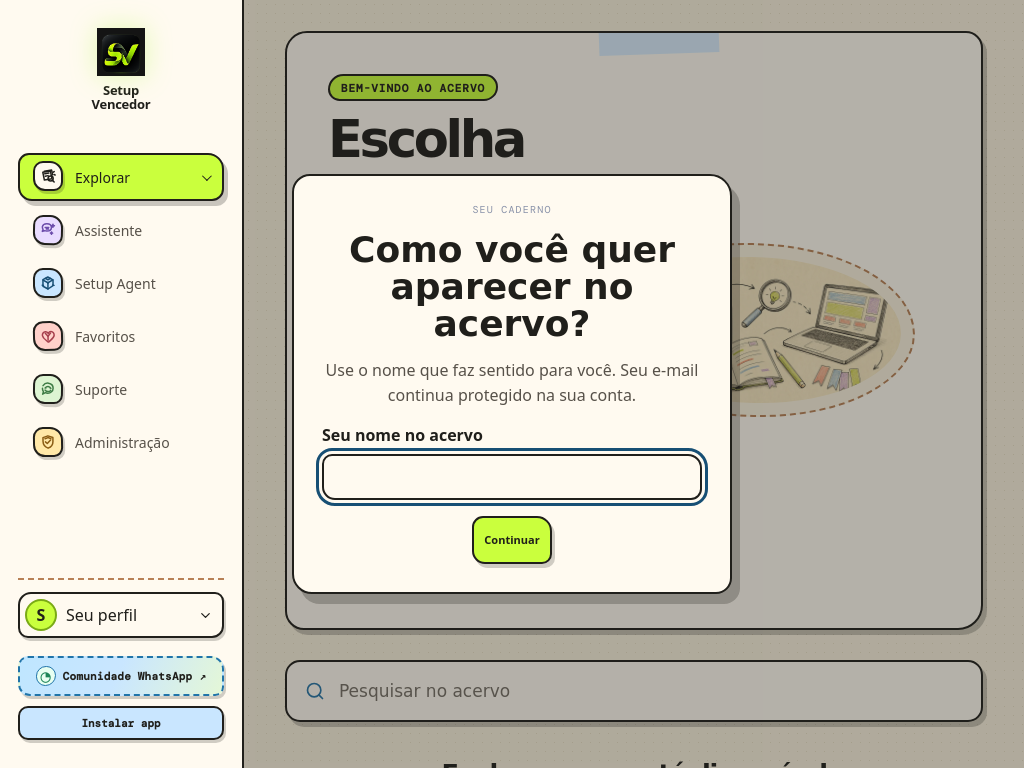
Test: gives every signed-in workspace area its own handdrawn illustration
Expected: the picture named "Biblioteca desenhada" is shown, [608, 256, 902, 405]
Click the button "Assistente" at (121, 230), box [18, 206, 224, 254]
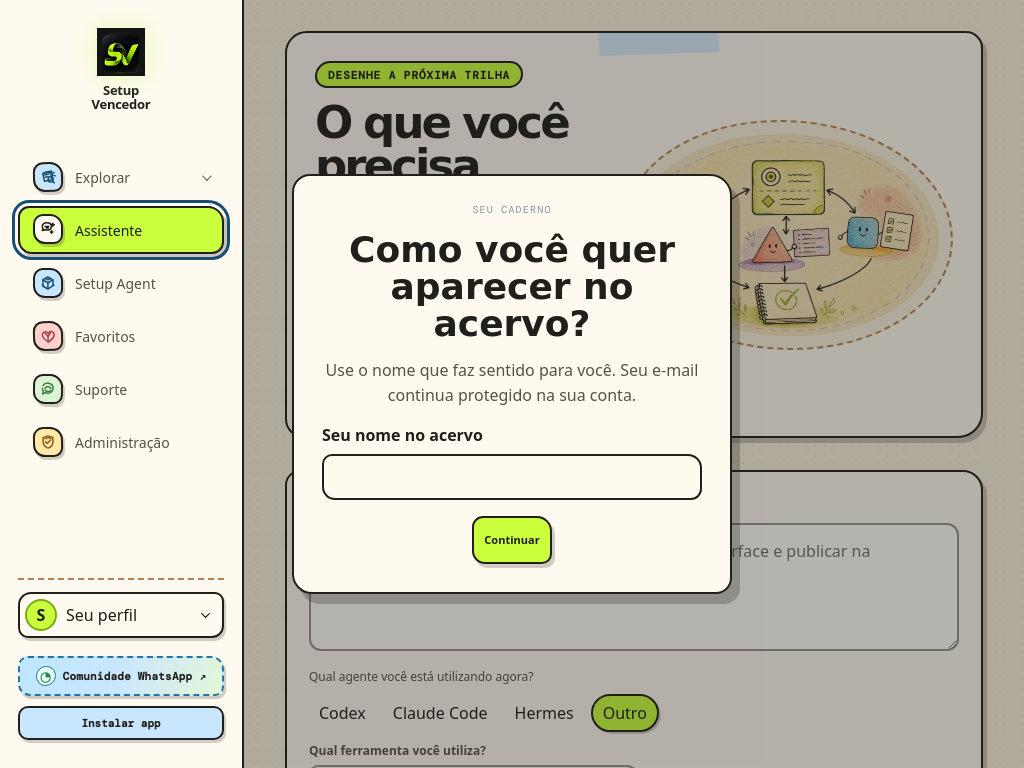
Result: the picture named "Agentes e tarefas ligados" is shown at [635, 132, 940, 338]
Click the button "Favoritos" at (121, 336), box [18, 312, 224, 360]
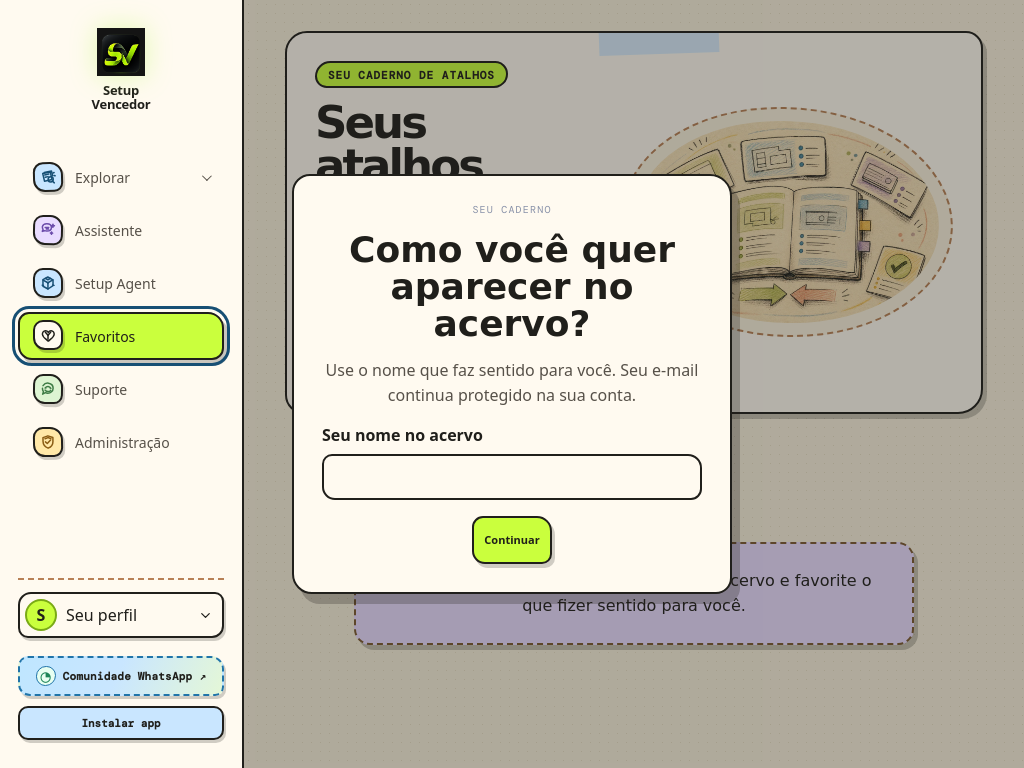
Result: the picture named "Caderno desenhado" is shown at [635, 119, 940, 325]
Click the button "Suporte" at (121, 389), box [18, 365, 224, 413]
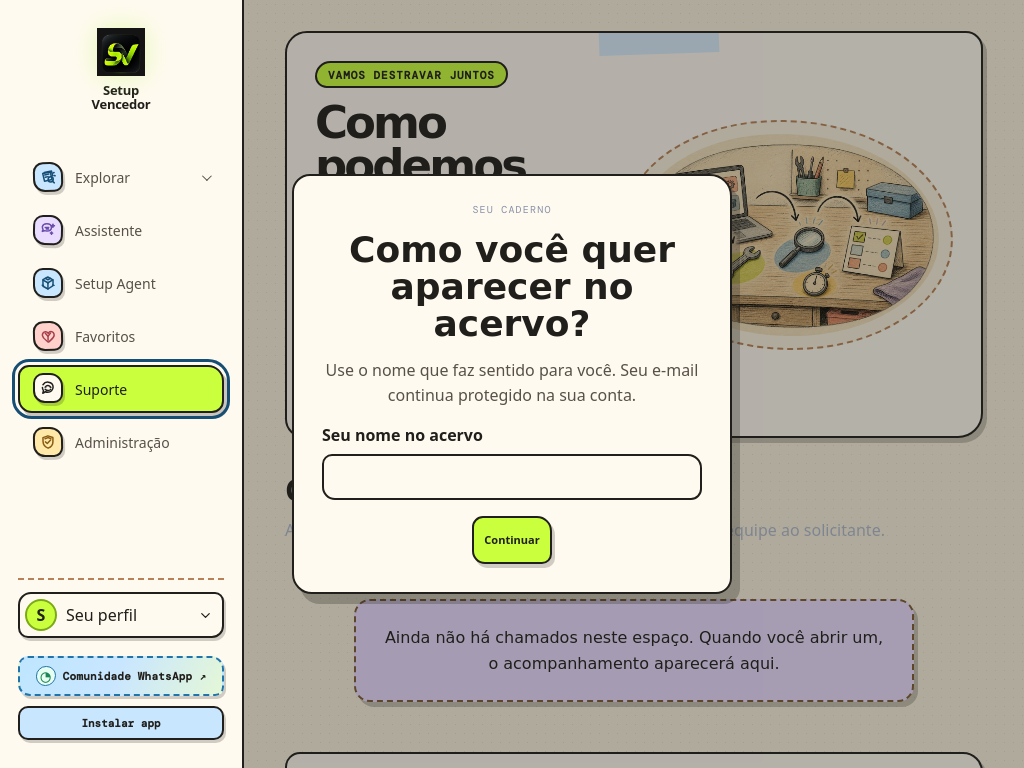
Result: the picture named "Bancada de suporte" is shown at [635, 132, 940, 338]
Click the button "Administração" at (121, 442), box [18, 418, 224, 466]
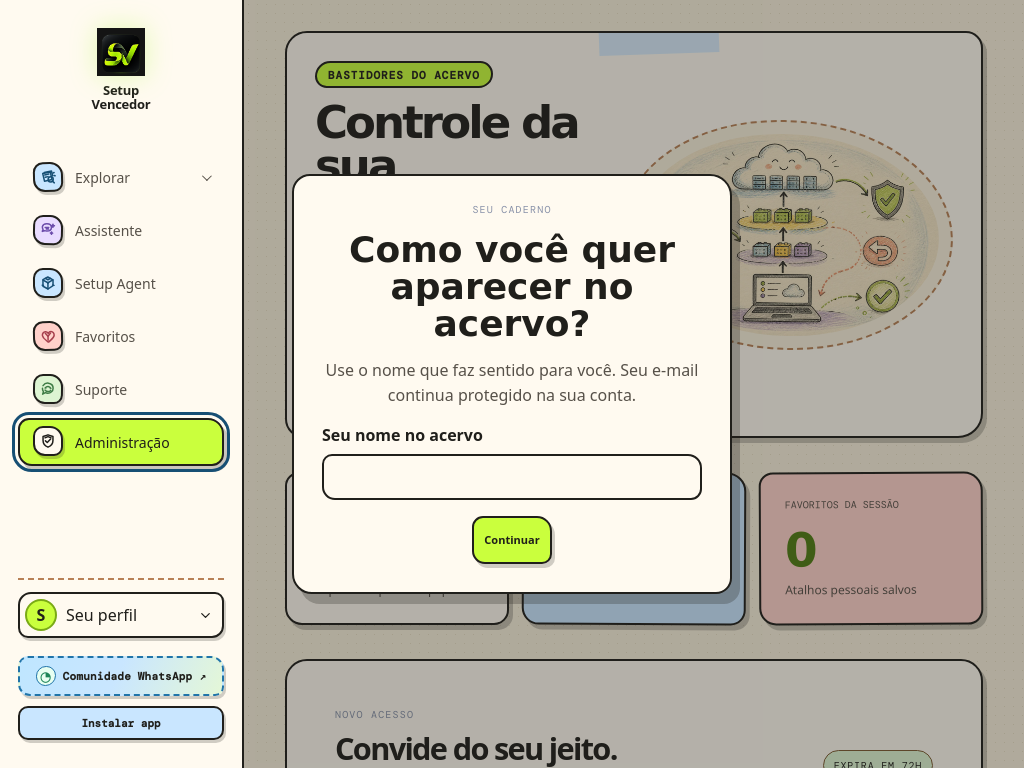
Result: the picture named "Biblioteca privada desenhada" is shown at [635, 132, 940, 338]
